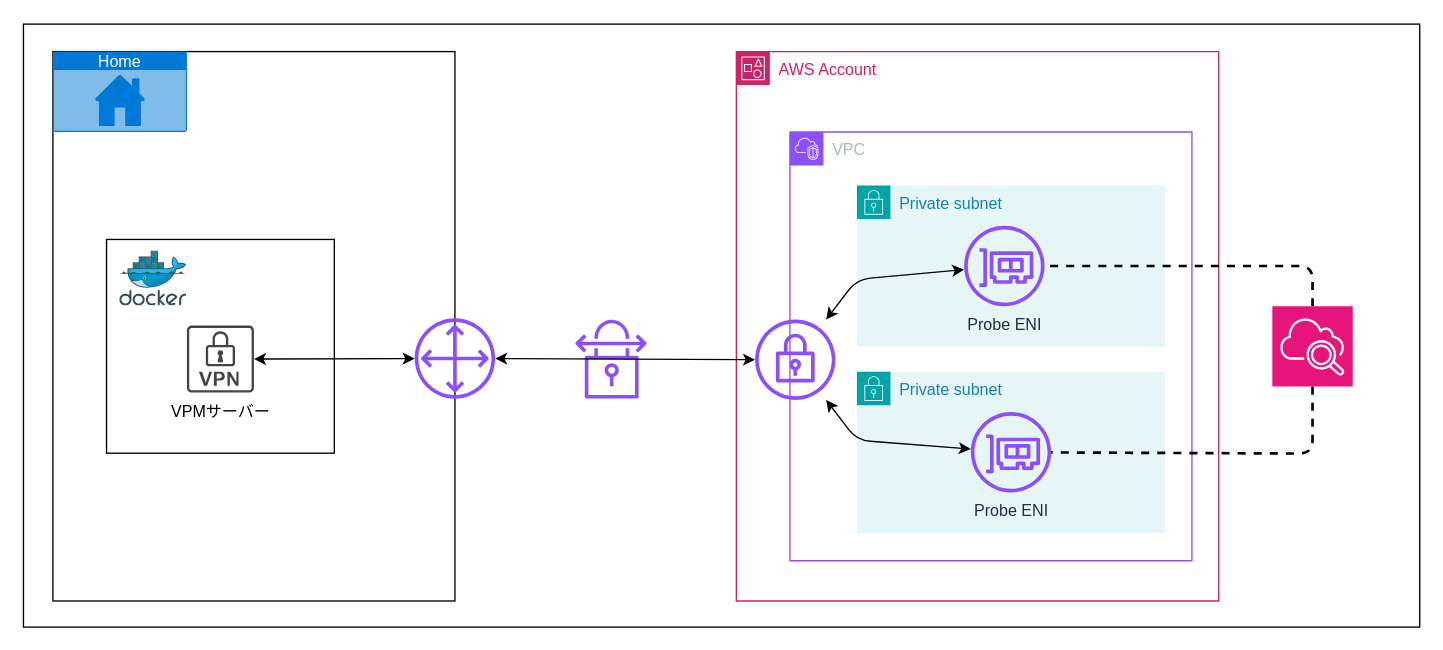
This 1443x650 diagram has some shape labels left out. The shapes that lost their labels are listed below. From the top down, each one's centre as x and y in pixels, then its label:
At (454,358): "Customer Gateway".
At (610,358): "VPN Connection".
At (794,359): "VGW".
At (1312,346): "Network Synthetic Monitor".
